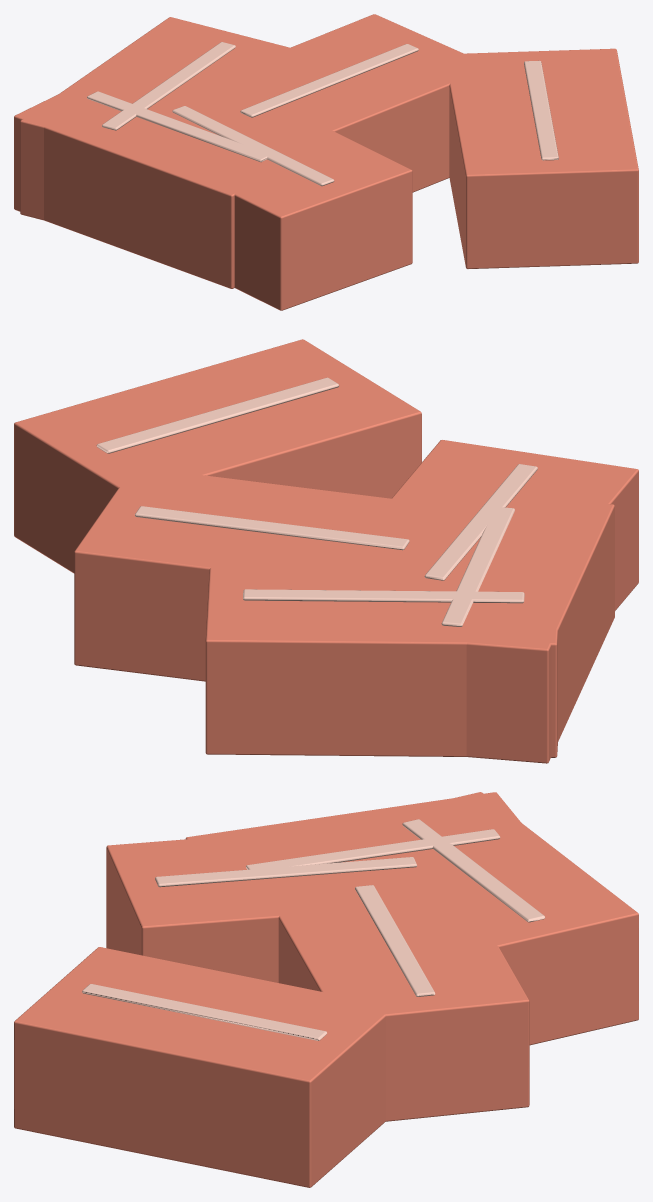
Rendered from Fish_Chopped.glb.
3 views of the same model, one above another, from view 1: azimuth 30°, elevation 25°; view 2: azimuth 150°, elevation 25°; view 3: azimuth 270°, elevation 25° (orthographic). The views are drawn at different scales.
Visible parts, largest first — view 1: Fish_Chopped; view 2: Fish_Chopped; view 3: Fish_Chopped.
Boxes of the visible parts, x1,y1,x2,y2 form: Fish_Chopped: (14,14,638,310); Fish_Chopped: (14,339,638,763); Fish_Chopped: (14,792,638,1187).
Size of the model in its own units: 0.104 by 0.0185 by 0.0948.
